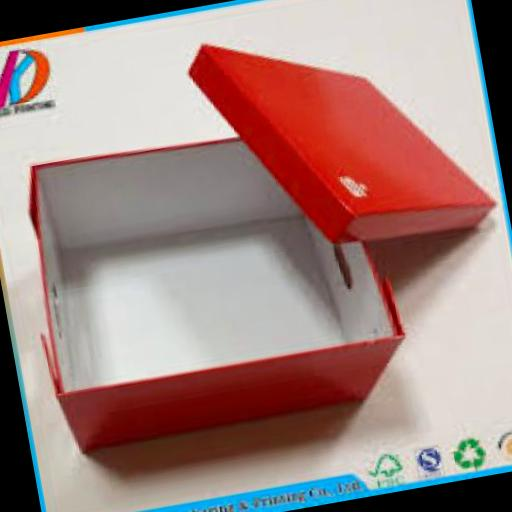cardboard: (8, 105, 413, 456), (181, 0, 499, 273)
